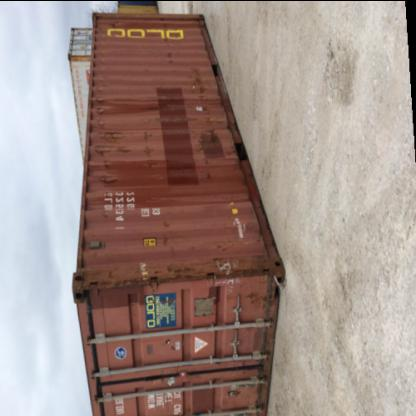Damage: (83, 252, 277, 298), (90, 95, 129, 185), (192, 126, 226, 184), (184, 63, 208, 122), (136, 122, 162, 176), (219, 378, 247, 402), (154, 216, 172, 249), (158, 332, 184, 354), (160, 46, 176, 74)
